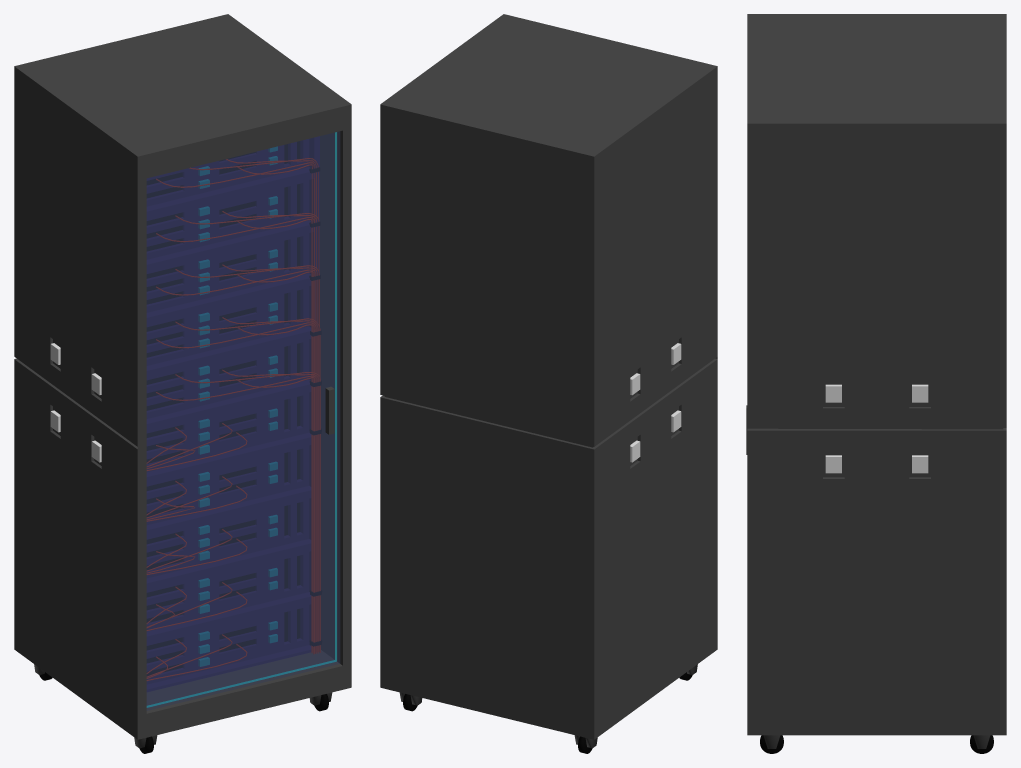
The model's file is Server Block.fbx.
The picture shows the model from 3 angles, left to right: view 1: azimuth 30°, elevation 25°; view 2: azimuth 150°, elevation 25°; view 3: azimuth 270°, elevation 25°; orthographic projection. The views are drawn at different scales.
Visible parts, largest first — view 1: Cube, Cube.001, BezierCurve.001; view 2: Cube; view 3: Cube.
Part boxes in pixels (bbox=[...]): Cube: bbox=[14, 14, 351, 753]; Cube.001: bbox=[147, 136, 319, 691]; BezierCurve.001: bbox=[147, 158, 320, 680]; Cube: bbox=[380, 14, 717, 753]; Cube: bbox=[746, 14, 1006, 753].
Size of the model in its own units: 202 by 544 by 201.
